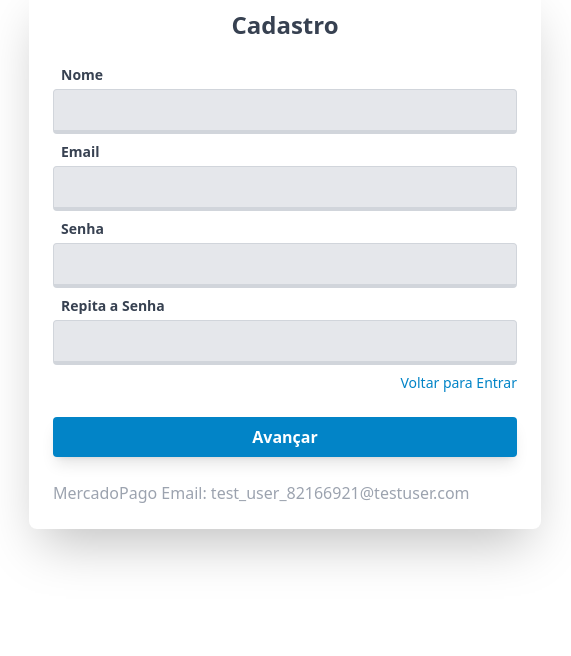
Test: SignUp › should not submit when password are not equal
The width and height of the screenshot is (571, 656).
Type "Test" into the field with id "username" at (285, 112), box [53,89,517,134]
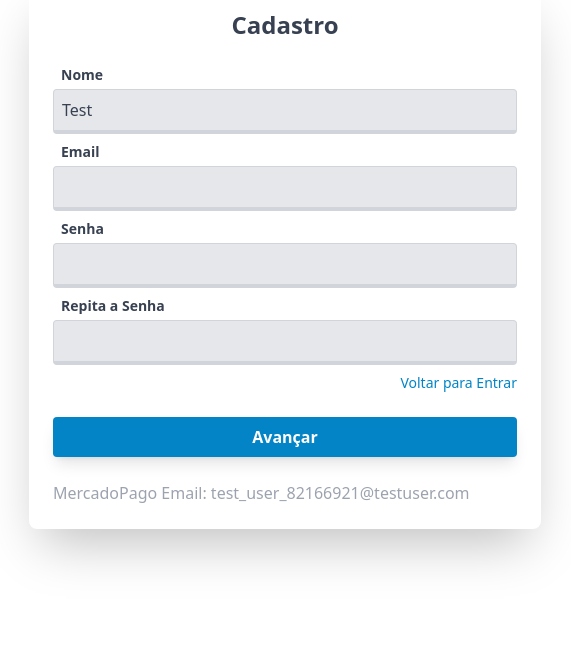
Type "teste@teste.com" into the field with id "email" at (285, 188), box [53,166,517,211]
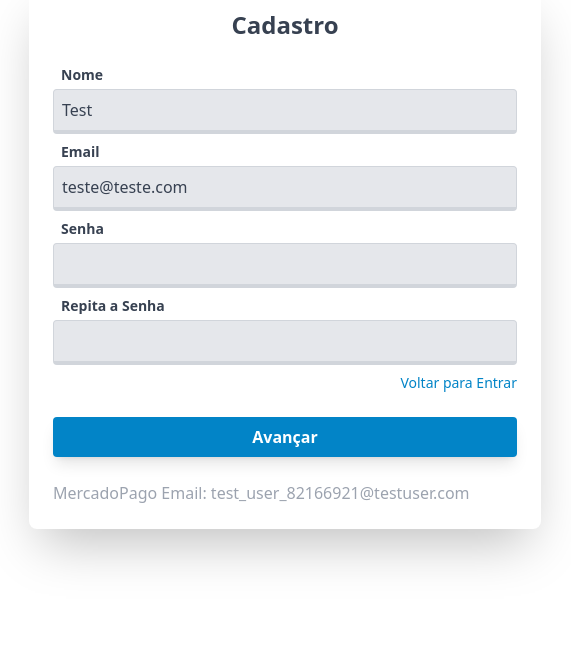
Type "123" into the password field labelled "Senha" at (285, 266), box [53,243,517,288]
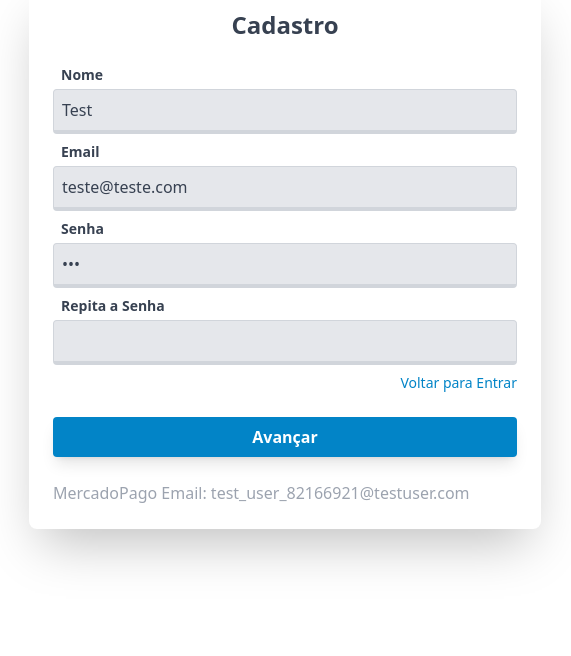
Type "456" into the password field with id "repeatPassword" at (285, 342), box [53,320,517,365]
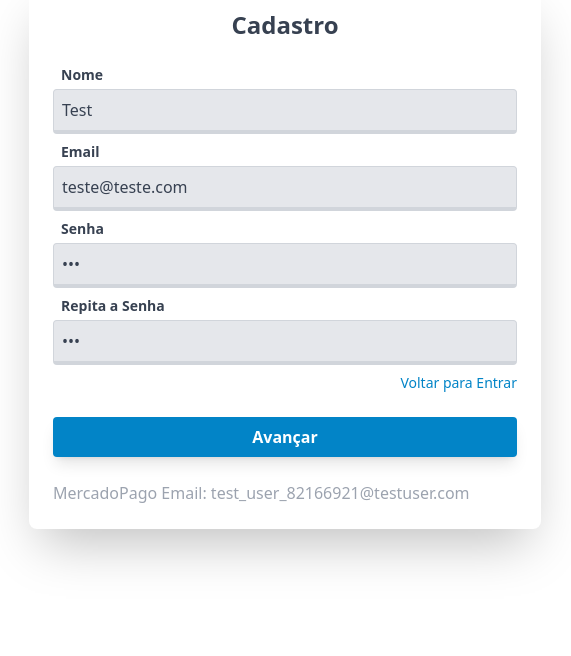
Click the button "Avançar" at (285, 437), box [53,417,517,457]
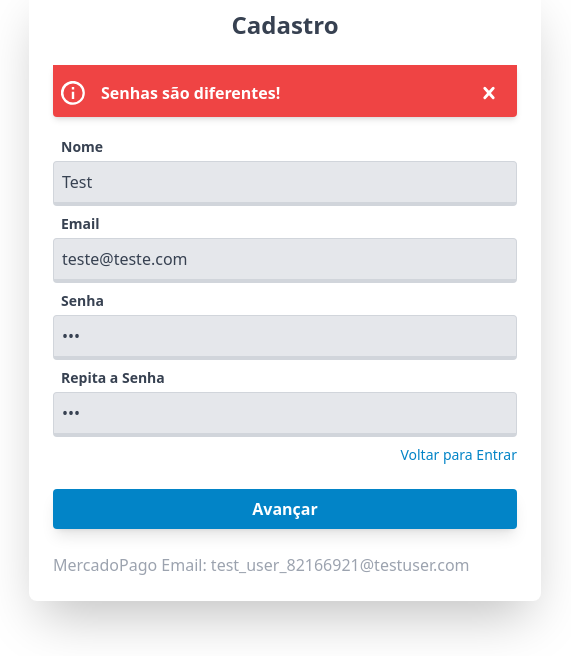
Check: the text "Senhas são diferentes!" is shown, box [101,77,280,109]
